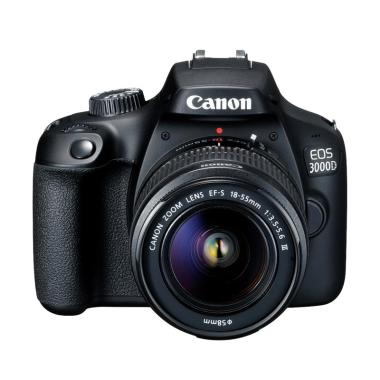kamera: (29, 45, 353, 348)
